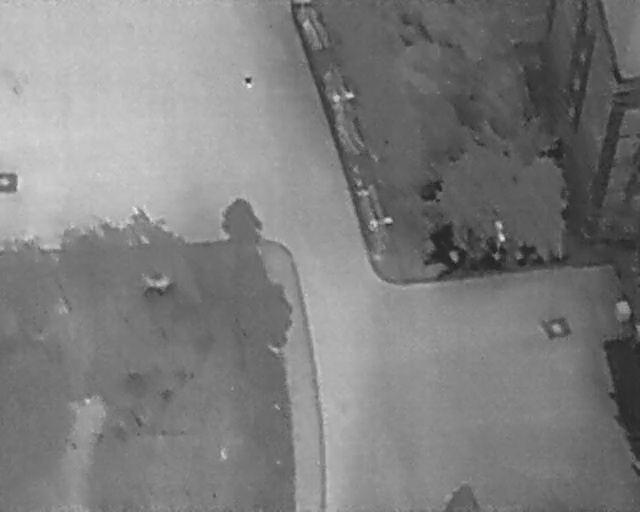Person: (242, 71, 257, 92)
